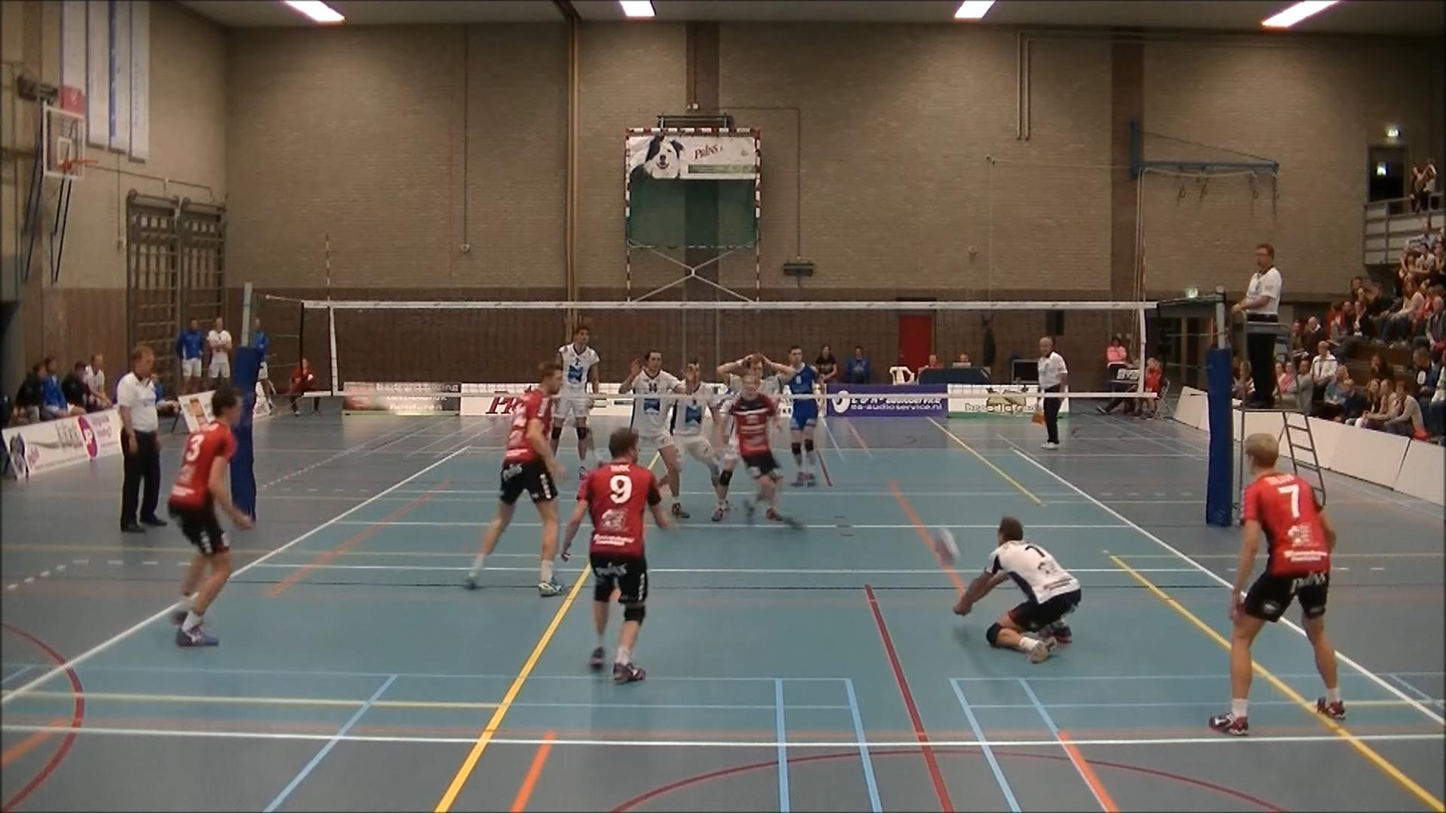Player: (1209, 434, 1344, 735), (562, 428, 668, 682), (466, 362, 565, 595), (168, 387, 252, 647), (619, 350, 689, 518), (729, 373, 801, 527), (671, 360, 726, 519), (712, 353, 762, 521), (764, 345, 819, 486), (551, 327, 599, 475)
Receive: (949, 511, 1085, 664)
ball: (932, 525, 962, 570)
